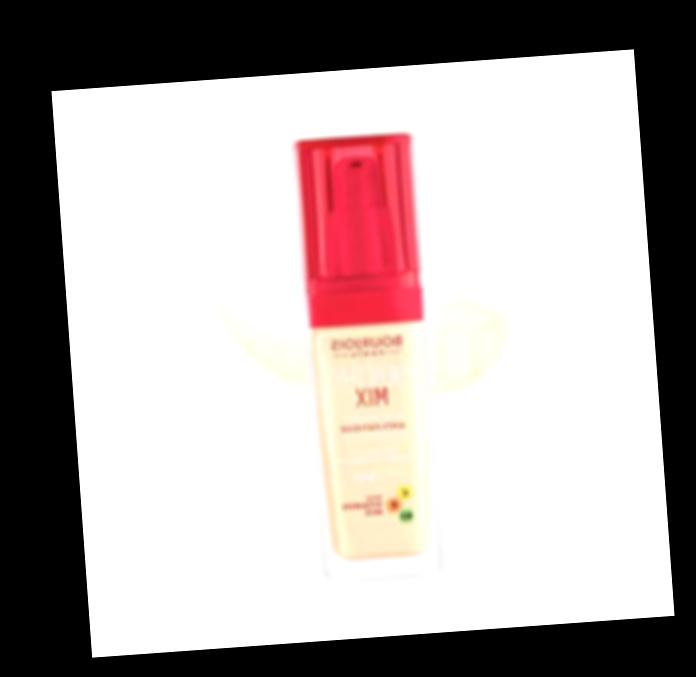cosmetic: (288, 132, 449, 592)
